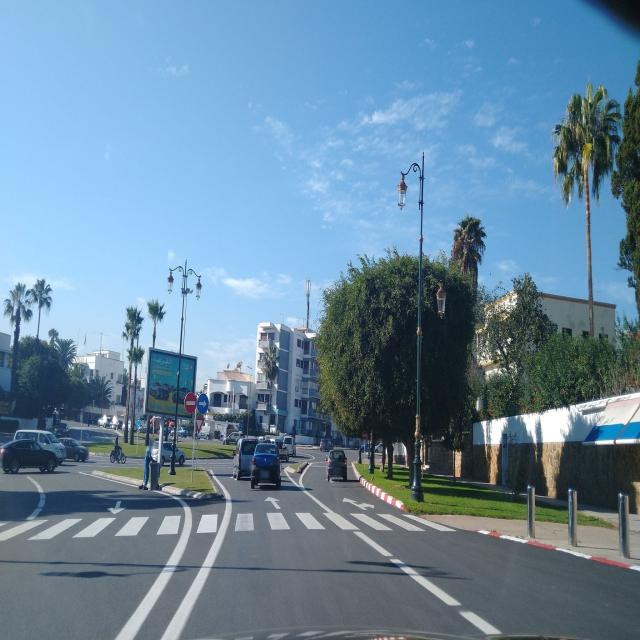bike: (110, 446, 127, 464)
car: (1, 430, 67, 475), (250, 439, 282, 490), (30, 429, 66, 468), (232, 435, 260, 481), (146, 439, 185, 468), (58, 436, 89, 462), (326, 448, 348, 483), (282, 434, 296, 457), (320, 436, 332, 452)
